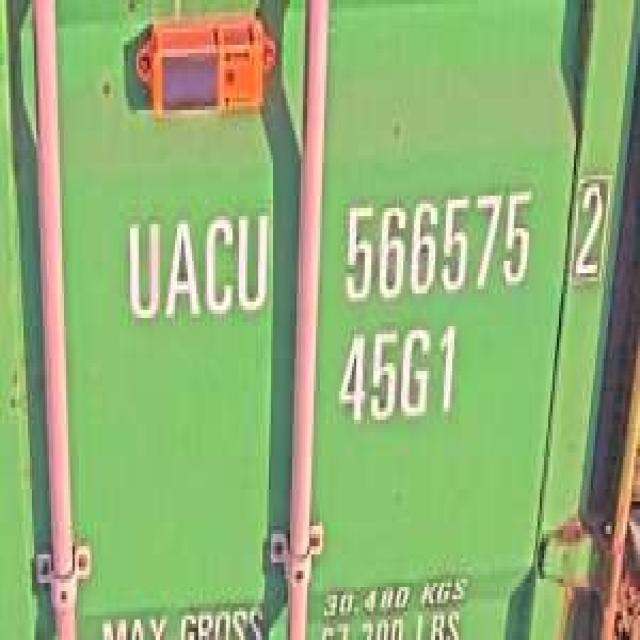dv: (570, 163, 612, 289)
owner: (117, 196, 273, 338)
serial: (335, 179, 535, 310)
size: (331, 318, 458, 436)
